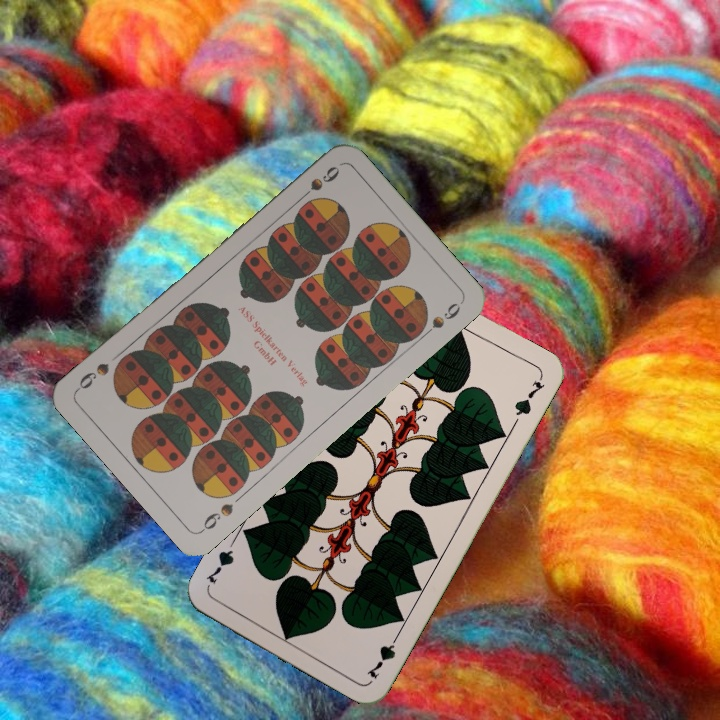G7: (362, 628, 403, 682)
S9: (293, 161, 343, 205), (197, 499, 236, 535)
